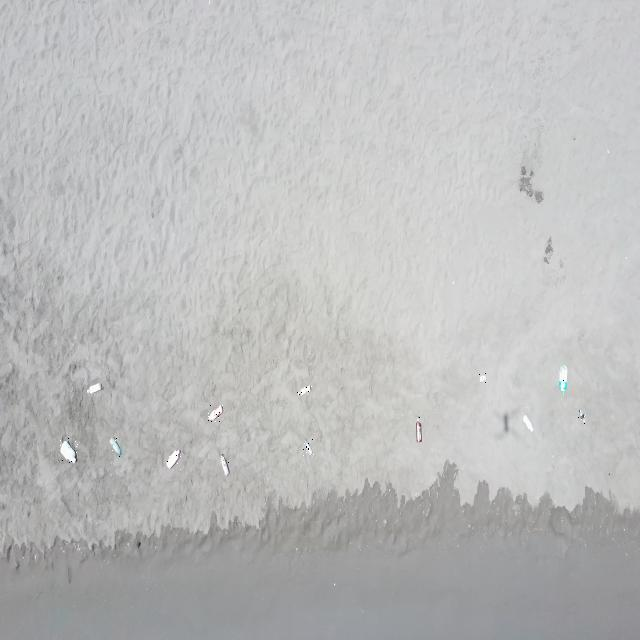Garbage: (60, 440, 75, 462), (557, 364, 567, 395), (167, 449, 180, 467), (108, 437, 120, 455), (207, 404, 220, 420), (523, 413, 532, 431), (220, 453, 227, 475), (415, 415, 420, 442), (298, 384, 310, 395), (87, 383, 101, 392), (577, 409, 584, 424), (303, 440, 310, 455), (479, 372, 486, 383)
